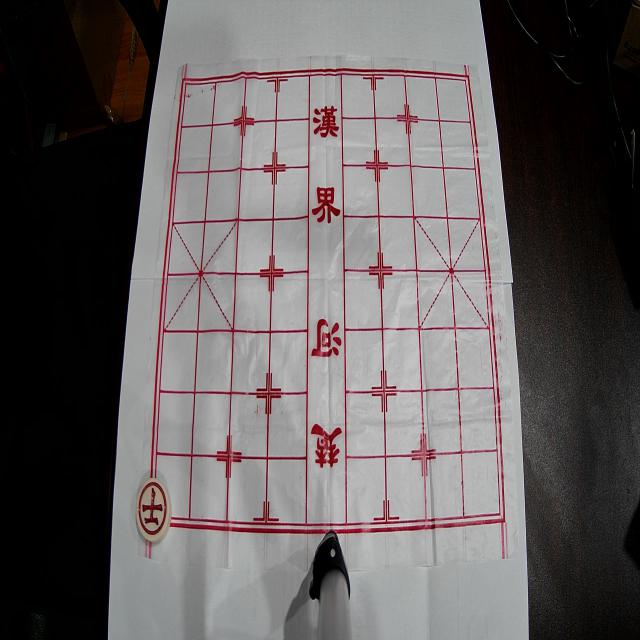red-guard: (136, 478, 172, 543)
